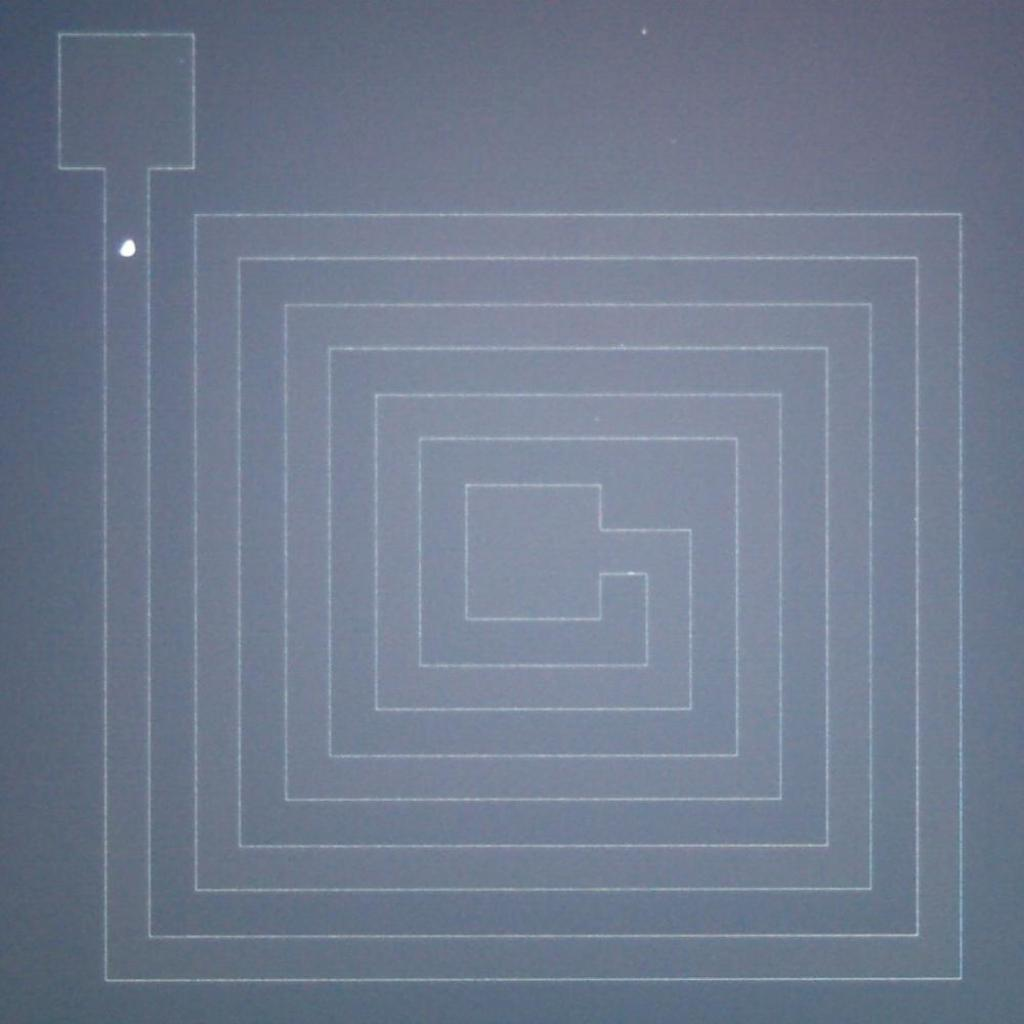dot: (119, 240, 136, 258), (642, 30, 646, 34)
